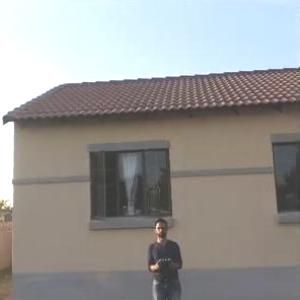follow: (144, 208, 189, 299)
